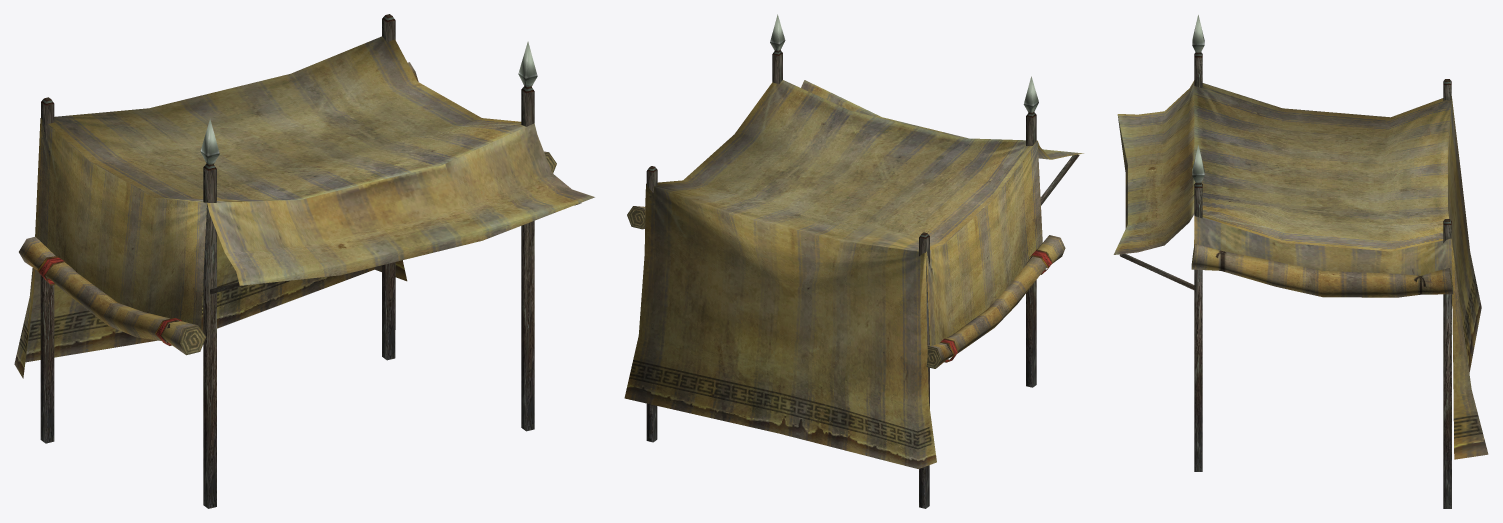
The model's file is thing_market tent_01.fbx.
3 views of the same model, side by side, from view 1: azimuth 30°, elevation 25°; view 2: azimuth 150°, elevation 25°; view 3: azimuth 270°, elevation 25° (orthographic). The views are drawn at different scales.
Visible parts, largest first — view 1: thing_market tent_01; view 2: thing_market tent_01; view 3: thing_market tent_01.
Boxes of the visible parts, x1,y1,x2,y2 form: thing_market tent_01: [14, 14, 594, 508]; thing_market tent_01: [624, 14, 1083, 508]; thing_market tent_01: [1113, 15, 1488, 508].
Bounding box in the file's own units: 7.58 × 7.83 × 7.41.
